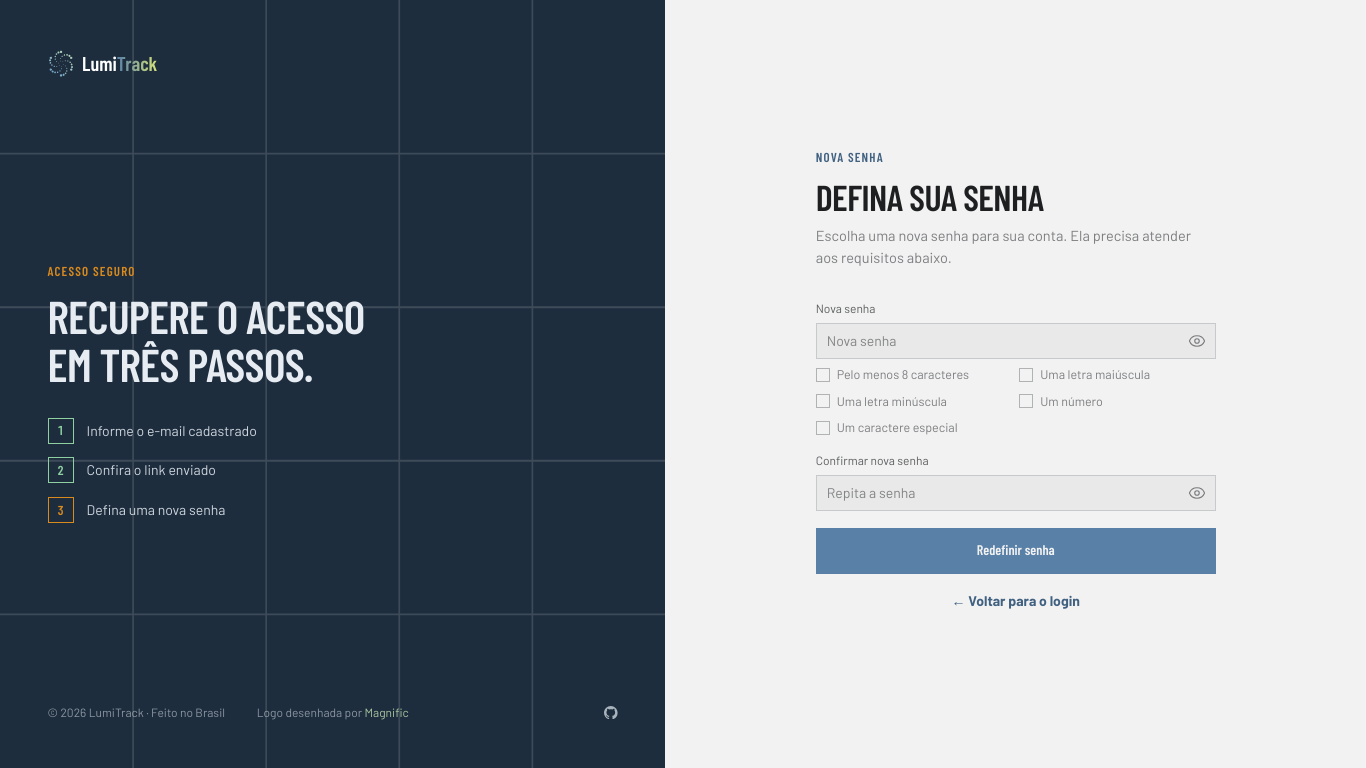
ResetPasswordPage — com token › mostra erro quando as senhas não coincidem
The width and height of the screenshot is (1366, 768).
In the password field labelled "Nova senha": (1016, 340) [816, 322, 1216, 358], type "Senha@123"
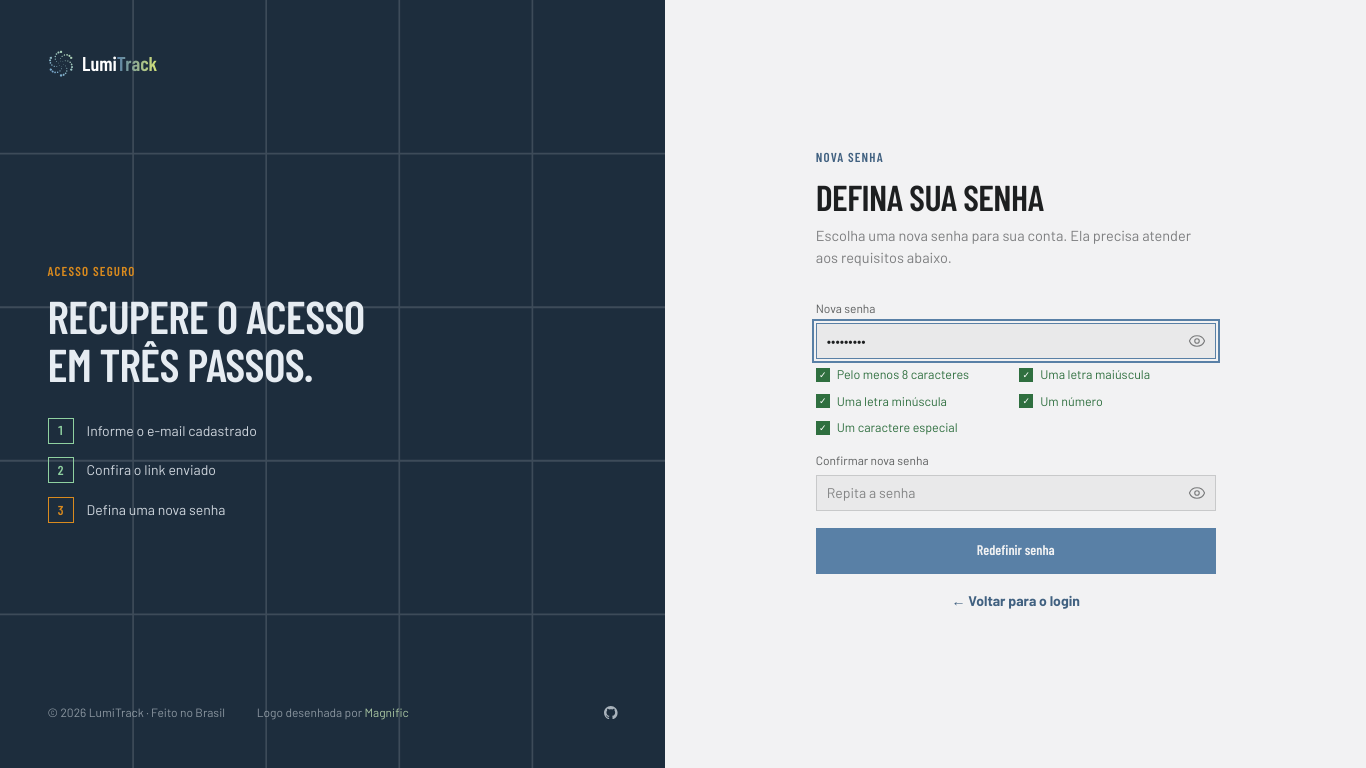
In the password field labelled "Confirmar nova senha": (1016, 493) [816, 475, 1216, 511], type "Outra@456"
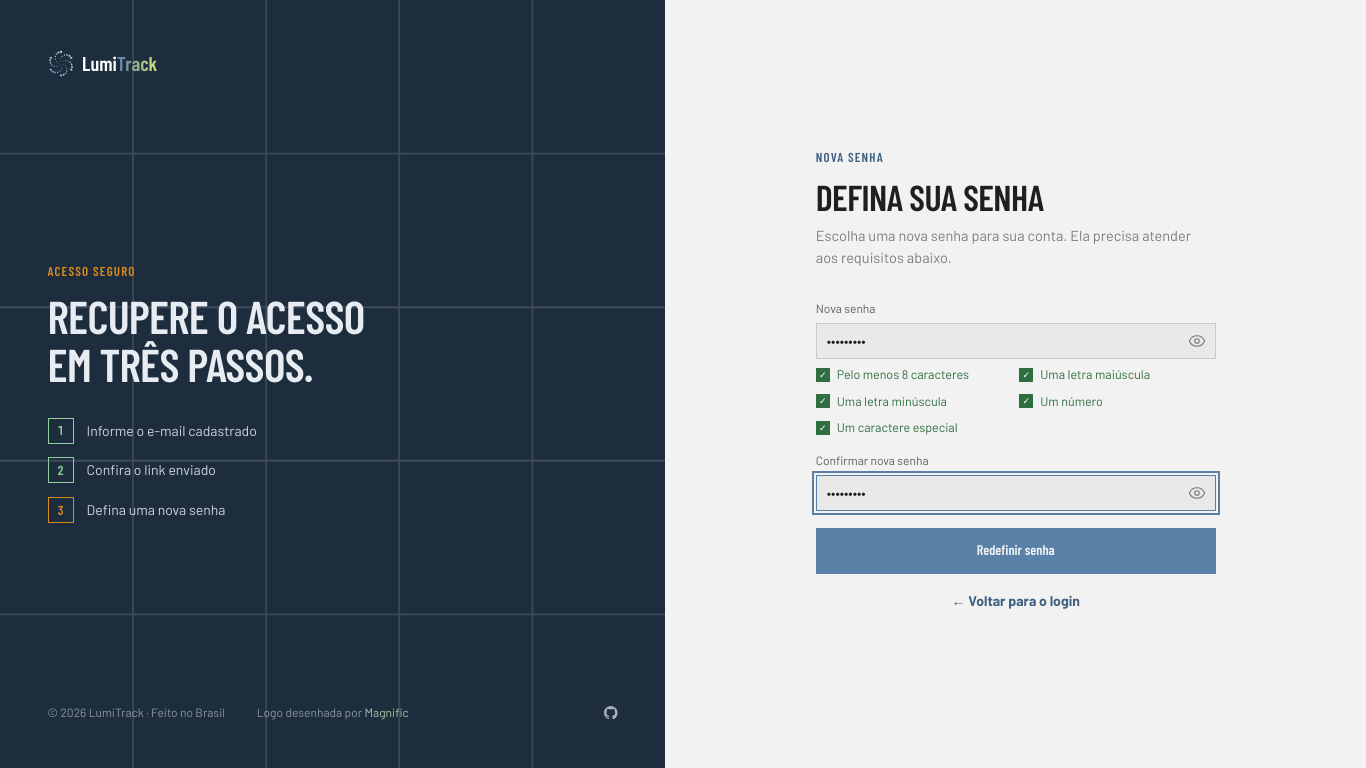
Click the button "Redefinir senha": (1016, 551) [816, 528, 1216, 574]
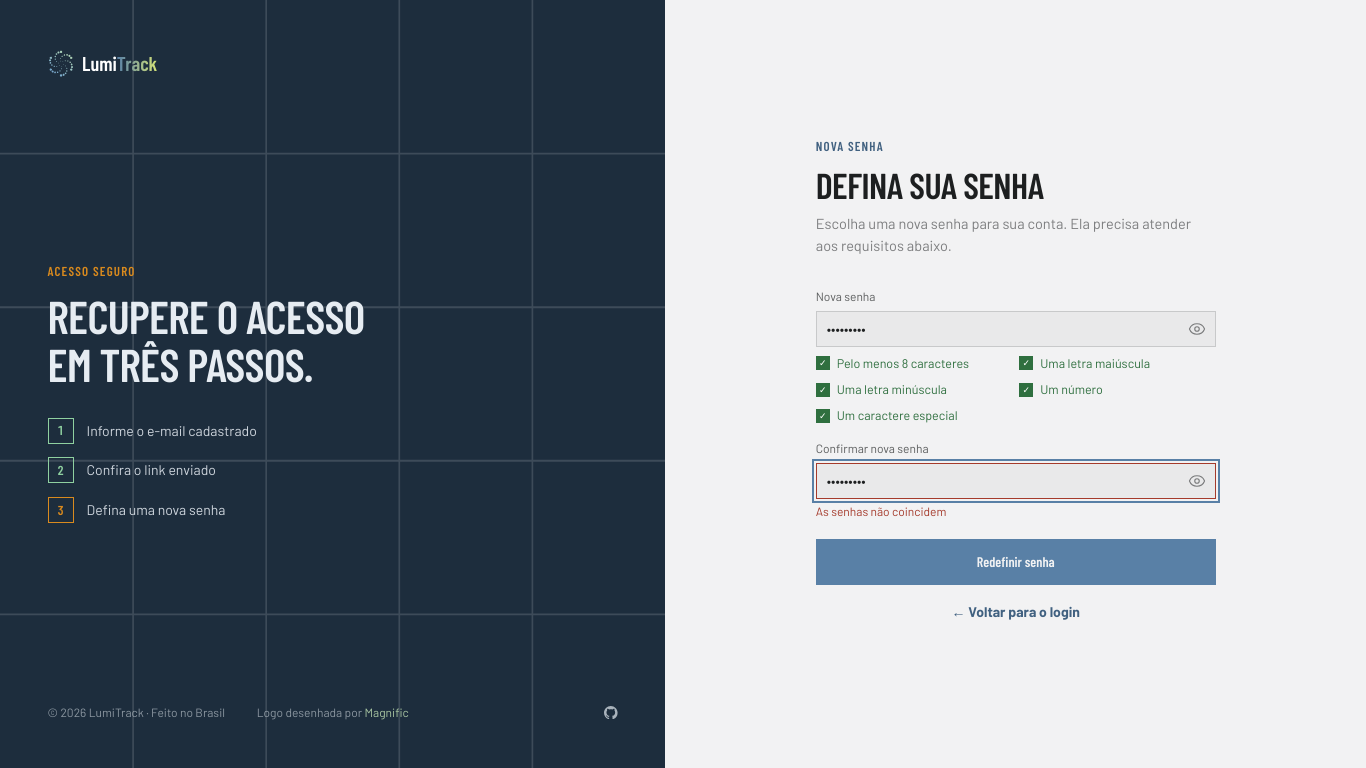
Expected: the text "As senhas não coincidem" is shown, [816, 504, 946, 518]
